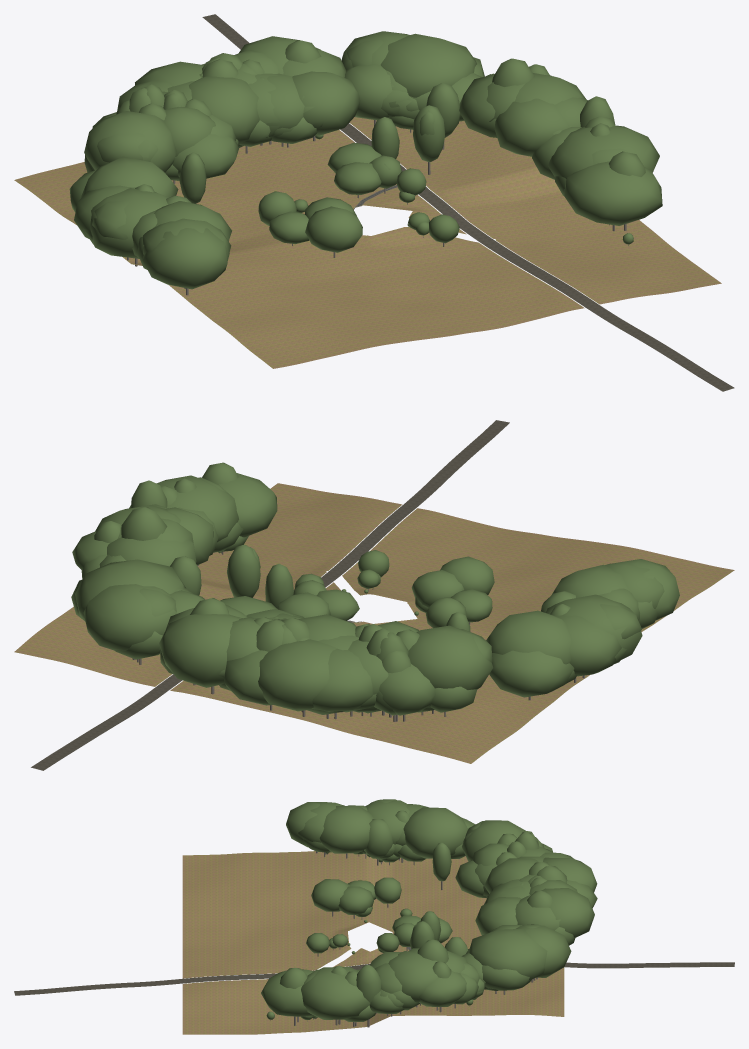
The model's file is 182j47_okoli.glb.
3 renders of one model, top to bottom at view 1: azimuth 30°, elevation 25°; view 2: azimuth 150°, elevation 25°; view 3: azimuth 270°, elevation 25°, orthographic. The views are drawn at different scales.
Parts seen in each view (by area): view 1: tree_web, terrain_web, road; view 2: tree_web, terrain_web, road; view 3: tree_web, terrain_web, road.
Boxes of the visible parts, x1=… form: tree_web: x1=69, y1=31, x2=662, y2=295; terrain_web: x1=14, y1=117, x2=721, y2=368; road: x1=202, y1=14, x2=734, y2=391; tree_web: x1=71, y1=462, x2=679, y2=721; terrain_web: x1=14, y1=483, x2=734, y2=763; road: x1=31, y1=420, x2=509, y2=770; tree_web: x1=261, y1=799, x2=597, y2=1027; terrain_web: x1=182, y1=851, x2=564, y2=1034; road: x1=14, y1=962, x2=734, y2=995.
Bounding box in the file's own units: 185 × 37.53 × 300.
Materials: 6 (4 with a texture image).
